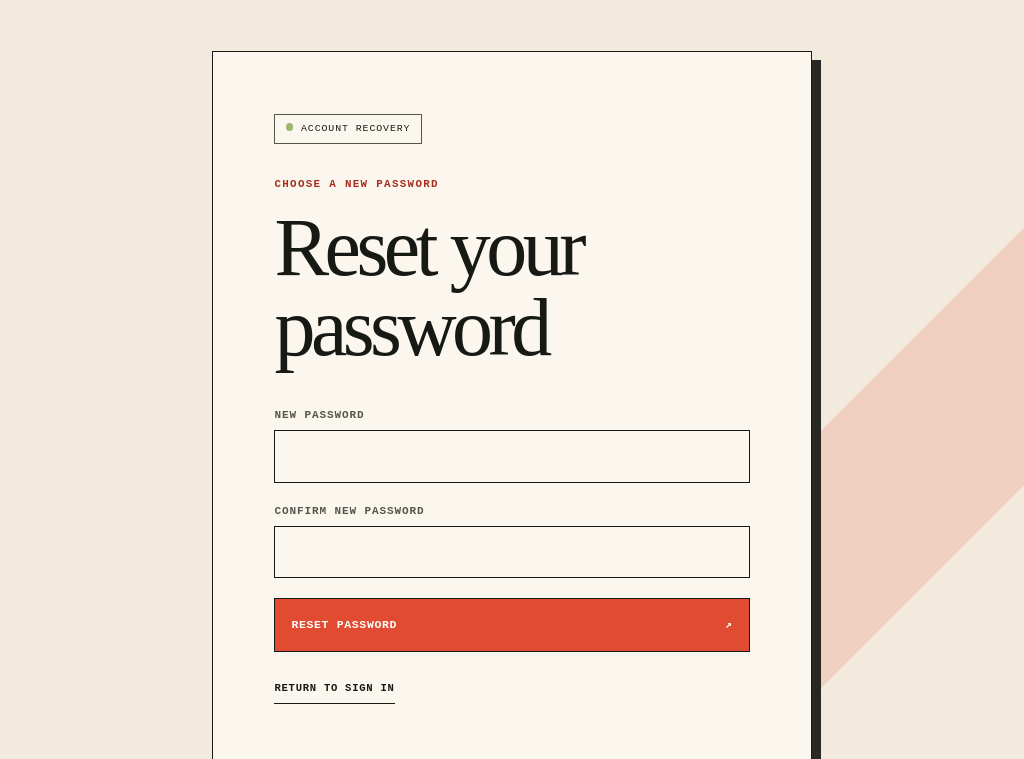
Test: AI project workshop › renders the stable ACCOUNT_ACTION_USED reset state without backend copy
Type "UpdatedPassword123!" into the password field labelled "New password" at (512, 456), box x1=274 y1=430 x2=750 y2=483
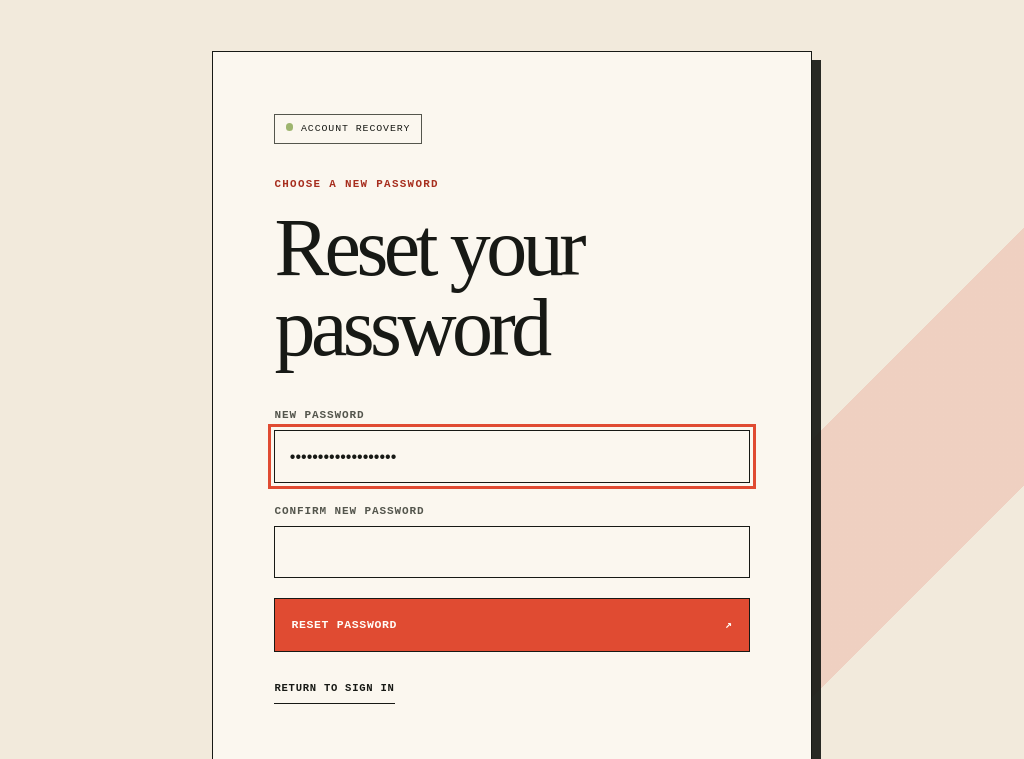
Type "UpdatedPassword123!" into the password field labelled "Confirm new password" at (512, 552), box x1=274 y1=526 x2=750 y2=578
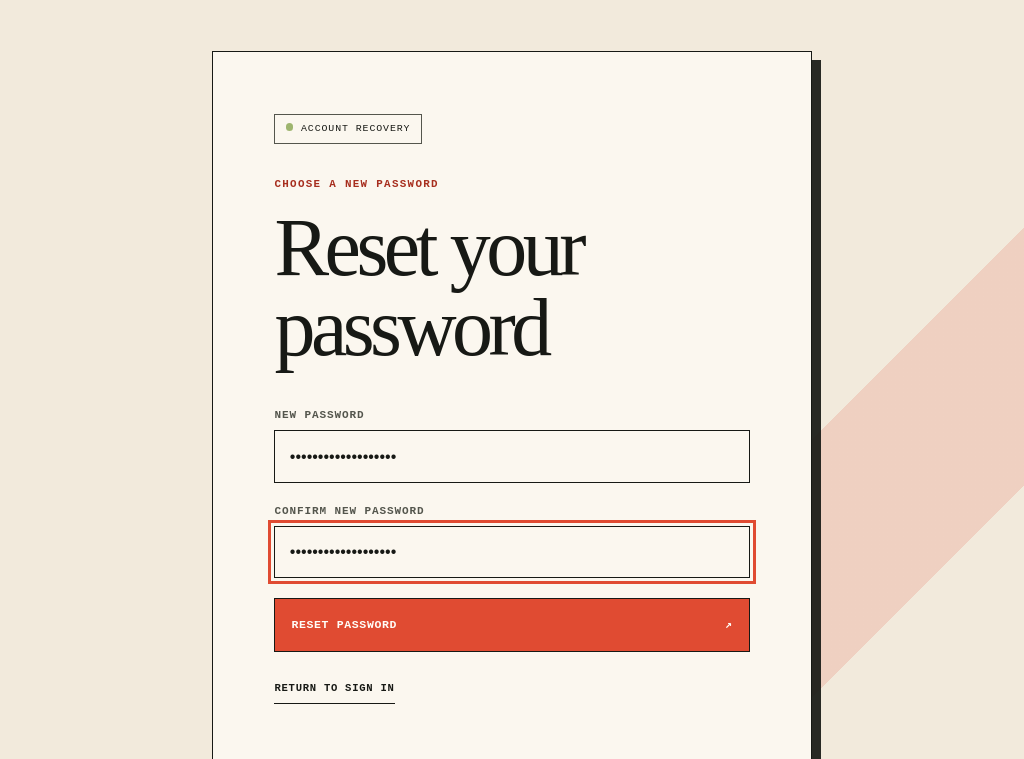
Click the button "Reset password ↗" at (344, 625), box x1=274 y1=598 x2=750 y2=652
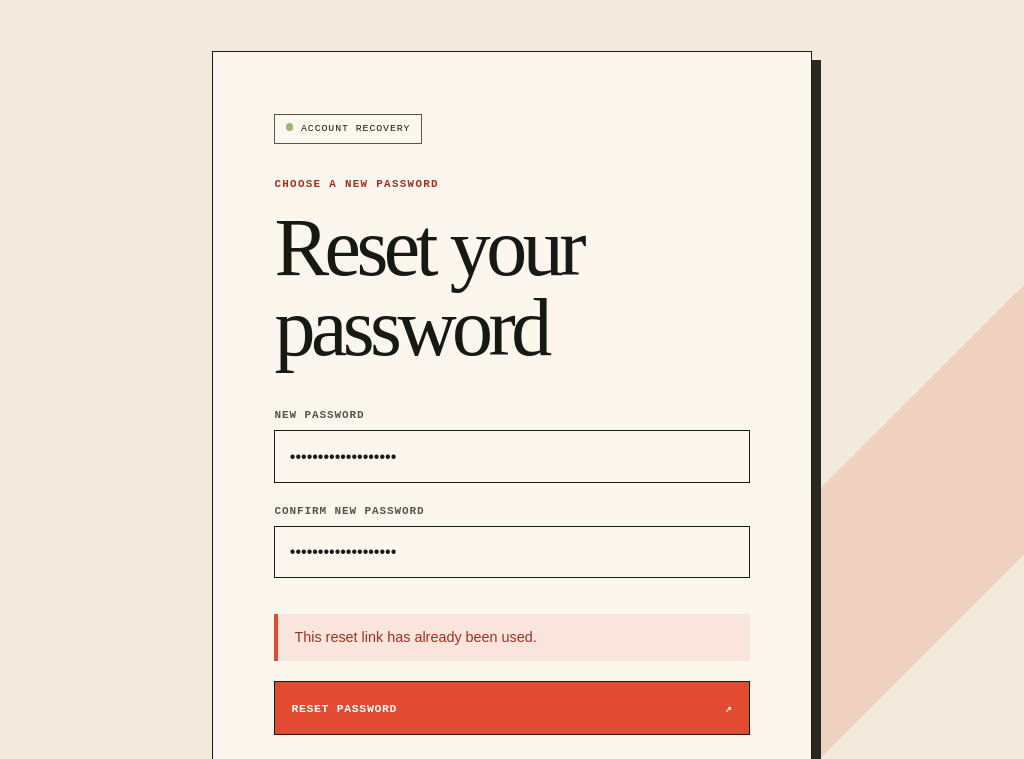
Check: the message reads "This reset link has already been used.", box x1=294 y1=629 x2=537 y2=645
